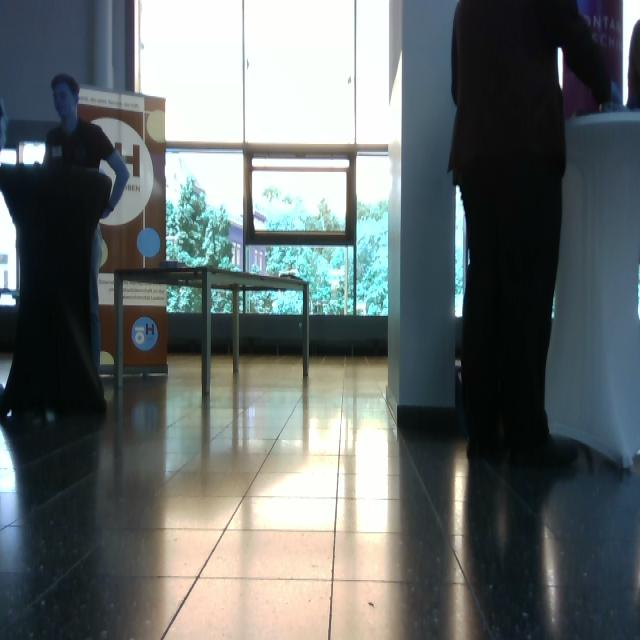light bulb: (19, 141, 47, 166)
person: (448, 1, 613, 469), (41, 75, 131, 383)
pillar: (544, 109, 640, 470), (387, 1, 458, 422)
table: (112, 262, 314, 400)
tiled floor: (2, 352, 639, 638)
window: (133, 1, 392, 322)
